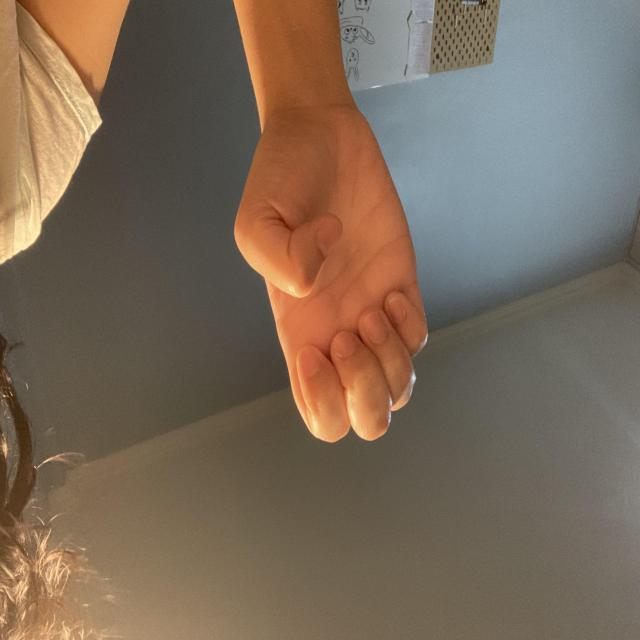E: (212, 196, 406, 532)
